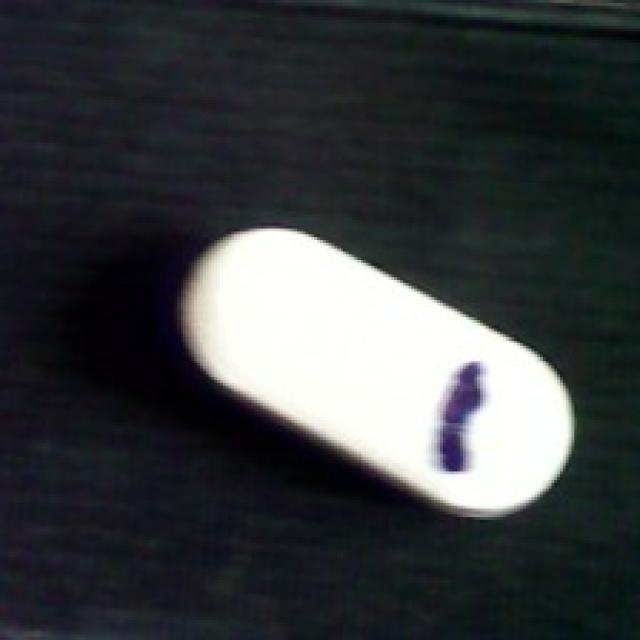defected: (163, 225, 583, 520)
